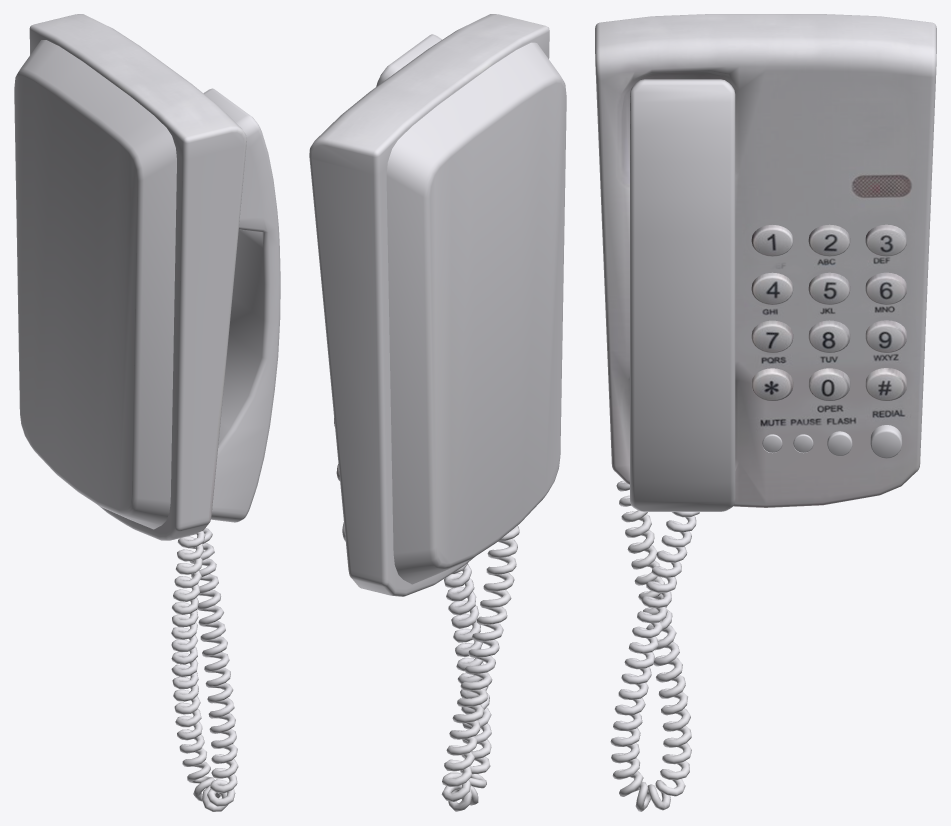
File: Phone.fbx
The picture shows the model from 3 angles, left to right: view 1: azimuth 30°, elevation 25°; view 2: azimuth 150°, elevation 25°; view 3: azimuth 270°, elevation 25°; orthographic projection. The views are drawn at different scales.
Visible parts, largest first — view 1: telephone, Wire_6; view 2: telephone, Wire_6; view 3: telephone, Wire_6.
Part boxes in pixels (left/top/right/bottom): telephone: left=14, top=14, right=280, bottom=540; Wire_6: left=171, top=528, right=238, bottom=811; telephone: left=309, top=14, right=566, bottom=596; Wire_6: left=441, top=525, right=519, bottom=811; telephone: left=595, top=14, right=936, bottom=511; Wire_6: left=610, top=480, right=699, bottom=811.
Bounding box in the file's own units: 8.53 × 40.2 × 16.18.
